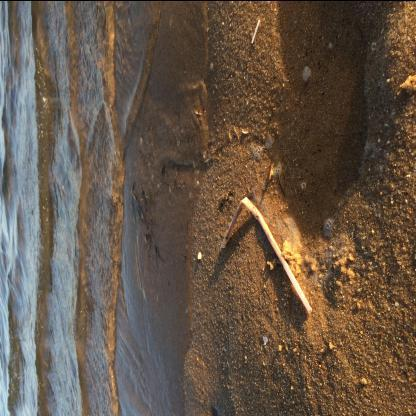plastik: (221, 196, 314, 316)
